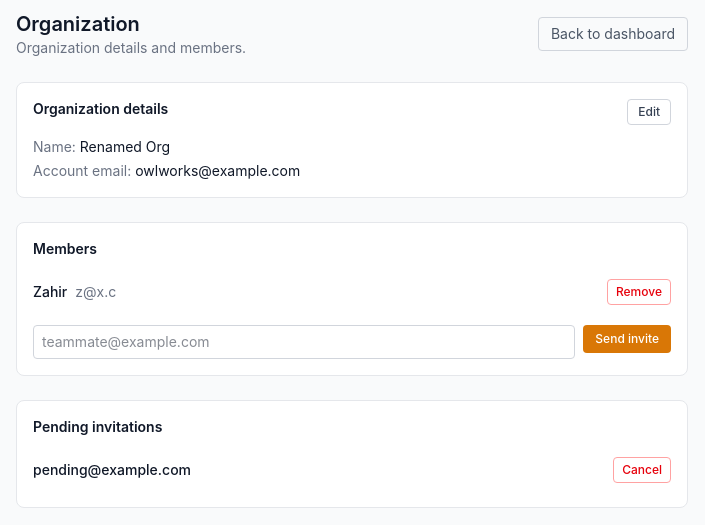
Scenario: OrganizationPage › cancels a pending invitation
Click the button with test id "cancel-invitation".
click(642, 470)  # box [613, 457, 671, 483]
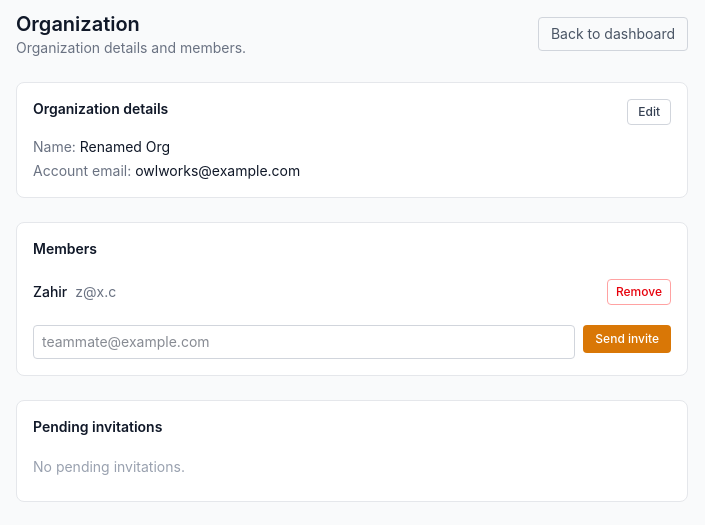
Now the text "pending@example.com" is gone
